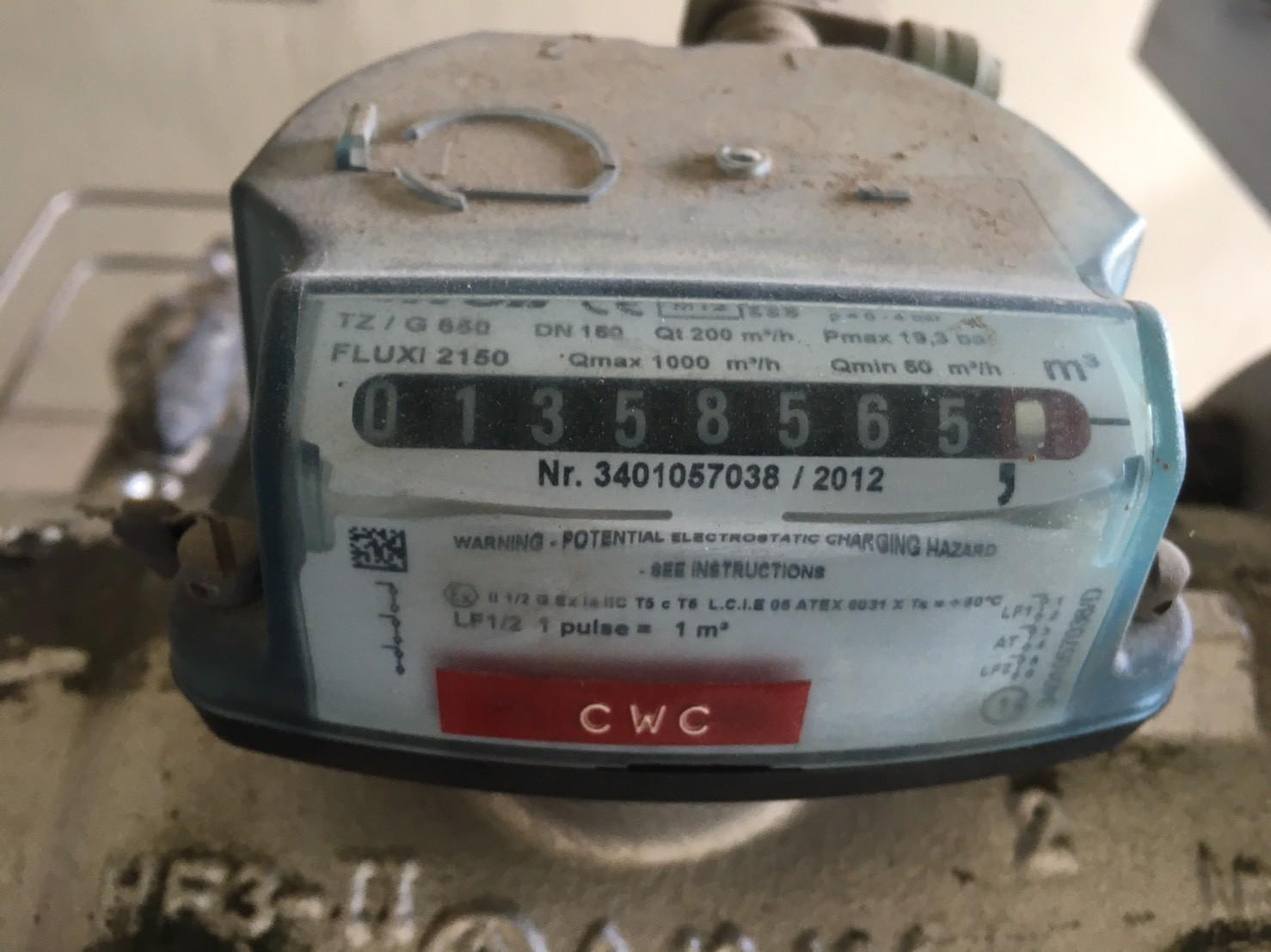analog_dial: (344, 362, 1135, 477)
